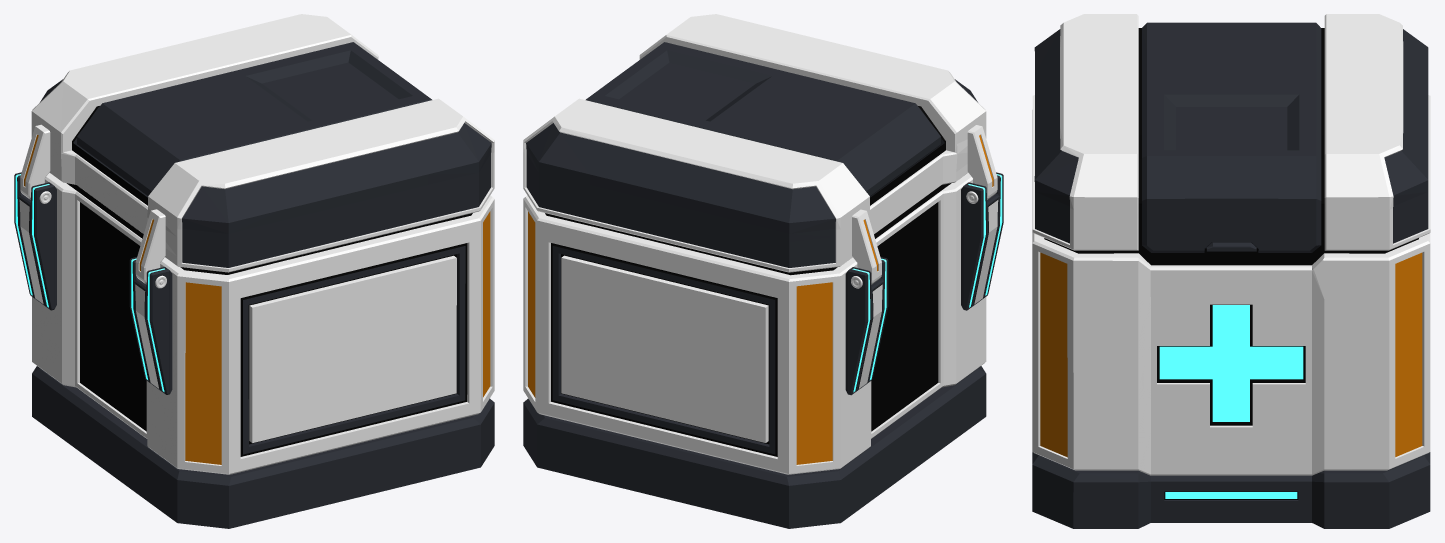
The model's file is SM_Medical_Storage_Crate.fbx.
The picture shows the model from 3 angles, left to right: view 1: azimuth 30°, elevation 25°; view 2: azimuth 150°, elevation 25°; view 3: azimuth 270°, elevation 25°; orthographic projection. The views are drawn at different scales.
Parts seen in each view (by area): view 1: SM_Medical_Storage_Crate_Body.001, SM_Medical_Storage_Crate_Lid.001; view 2: SM_Medical_Storage_Crate_Body.001, SM_Medical_Storage_Crate_Lid.001; view 3: SM_Medical_Storage_Crate_Body.001, SM_Medical_Storage_Crate_Lid.001.
Part boxes in pixels (x1=…): SM_Medical_Storage_Crate_Body.001: x1=14, y1=172, x2=494, y2=528; SM_Medical_Storage_Crate_Lid.001: x1=20, y1=14, x2=494, y2=284; SM_Medical_Storage_Crate_Body.001: x1=523, y1=172, x2=1003, y2=528; SM_Medical_Storage_Crate_Lid.001: x1=523, y1=14, x2=997, y2=284; SM_Medical_Storage_Crate_Body.001: x1=1032, y1=110, x2=1430, y2=528; SM_Medical_Storage_Crate_Lid.001: x1=1032, y1=14, x2=1430, y2=265.
Bounding box in the file's own units: 74.91 × 70 × 70.05.
